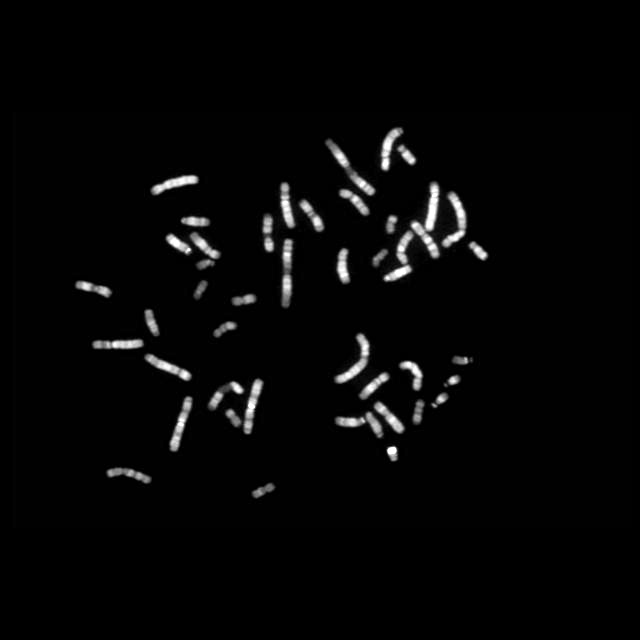chromosome: (326, 138, 376, 196), (334, 334, 370, 384), (439, 192, 466, 246), (145, 354, 191, 381), (170, 396, 192, 452), (243, 378, 264, 436), (410, 220, 440, 258), (150, 175, 198, 198), (208, 380, 244, 410), (381, 126, 404, 170), (374, 402, 404, 432), (359, 372, 391, 400), (299, 200, 325, 232), (278, 182, 296, 228), (106, 467, 152, 485), (281, 240, 293, 308), (338, 190, 369, 216), (190, 232, 220, 258), (423, 182, 439, 230), (74, 280, 111, 300), (399, 360, 423, 390), (93, 338, 143, 352), (165, 233, 190, 255), (382, 264, 412, 282), (396, 231, 412, 263), (336, 248, 349, 284), (365, 412, 383, 438), (262, 214, 274, 252), (212, 322, 238, 338), (145, 309, 160, 336), (468, 241, 488, 261), (229, 293, 256, 307), (335, 416, 365, 428), (398, 144, 416, 164), (179, 216, 211, 227), (192, 278, 208, 300), (252, 482, 274, 498), (372, 248, 388, 268), (412, 400, 424, 424), (451, 355, 473, 367), (432, 392, 448, 408), (226, 410, 242, 426), (443, 373, 461, 387), (385, 214, 397, 233), (197, 259, 215, 271), (388, 445, 398, 461)
